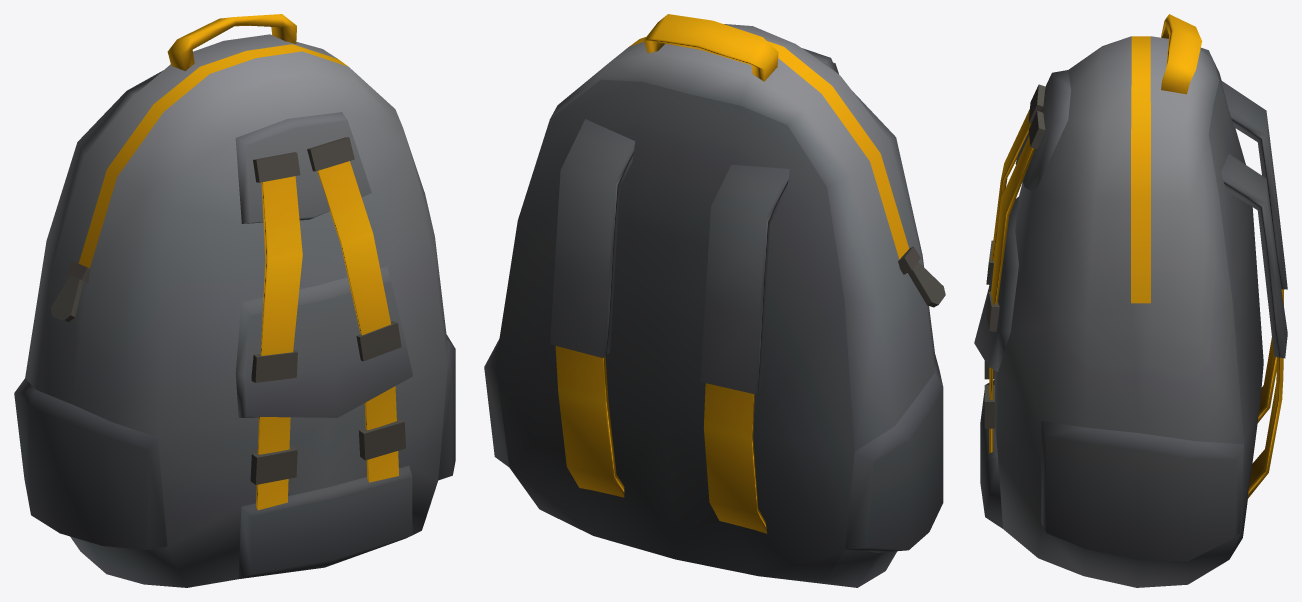
The model's file is backpack.glb.
The picture shows the model from 3 angles, left to right: view 1: azimuth 30°, elevation 25°; view 2: azimuth 150°, elevation 25°; view 3: azimuth 270°, elevation 25°; orthographic projection. The views are drawn at different scales.
Parts seen in each view (by area): view 1: backpack3; view 2: backpack3; view 3: backpack3.
Boxes of the visible parts, box(x1,y1,x2,y2) form: backpack3: box(14, 14, 455, 587); backpack3: box(484, 14, 945, 587); backpack3: box(974, 14, 1287, 587).
Bounding box in the file's own units: 0.4037 × 0.5 × 0.2864.
1 material, 1 textured.
